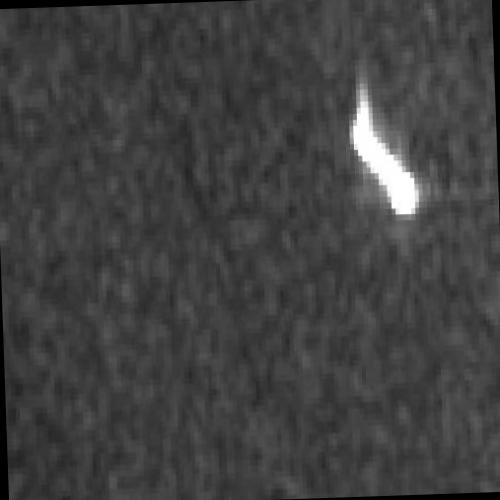ship: (347, 98, 419, 215)
